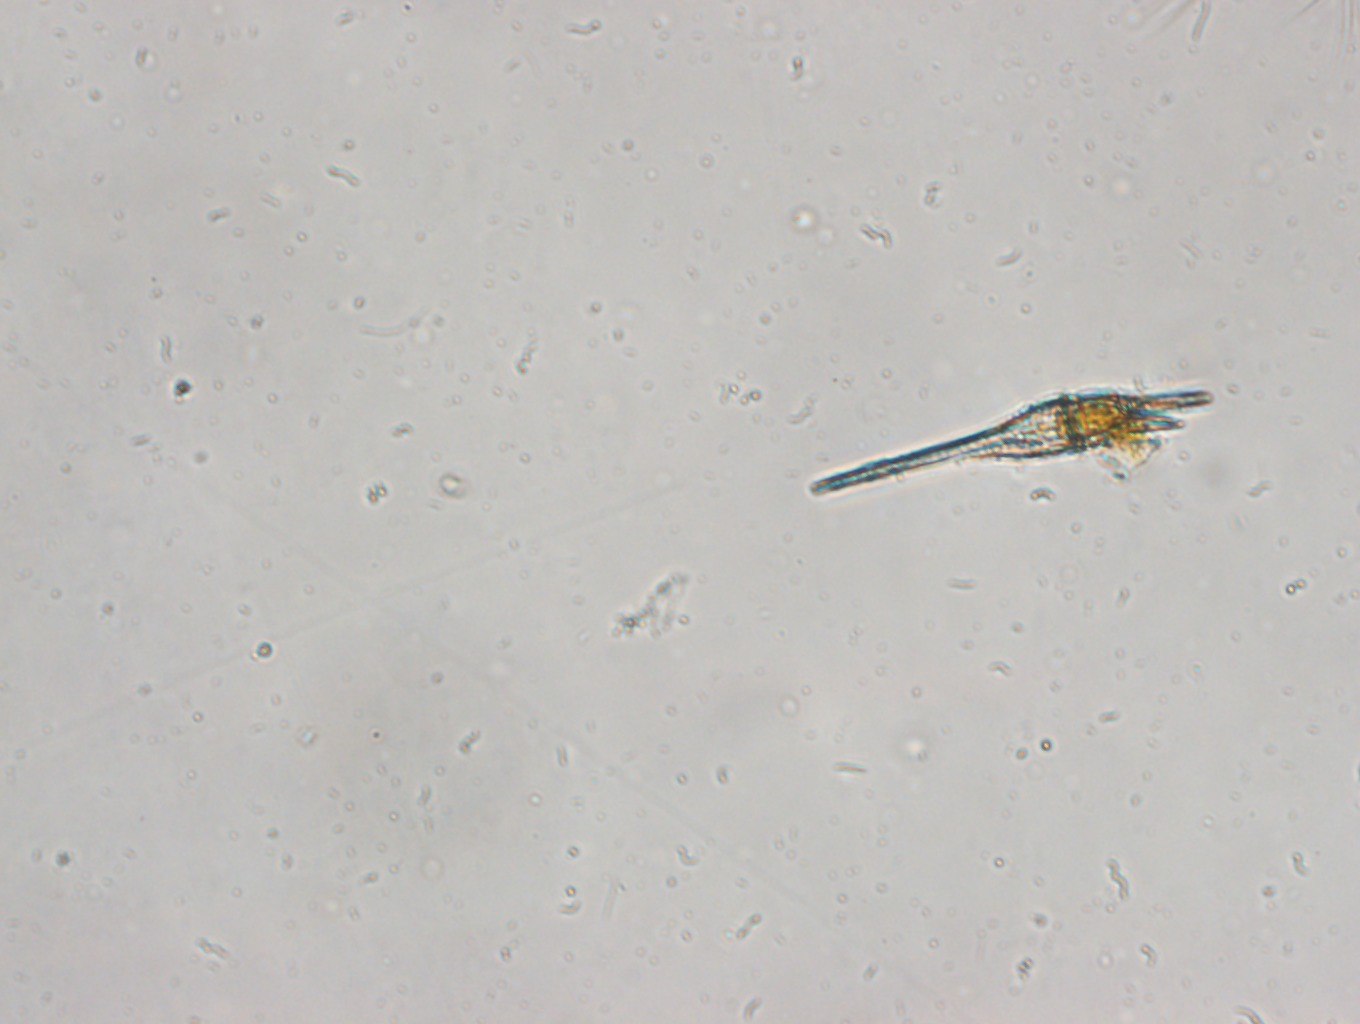ceratium furca: (798, 365, 1225, 504)
